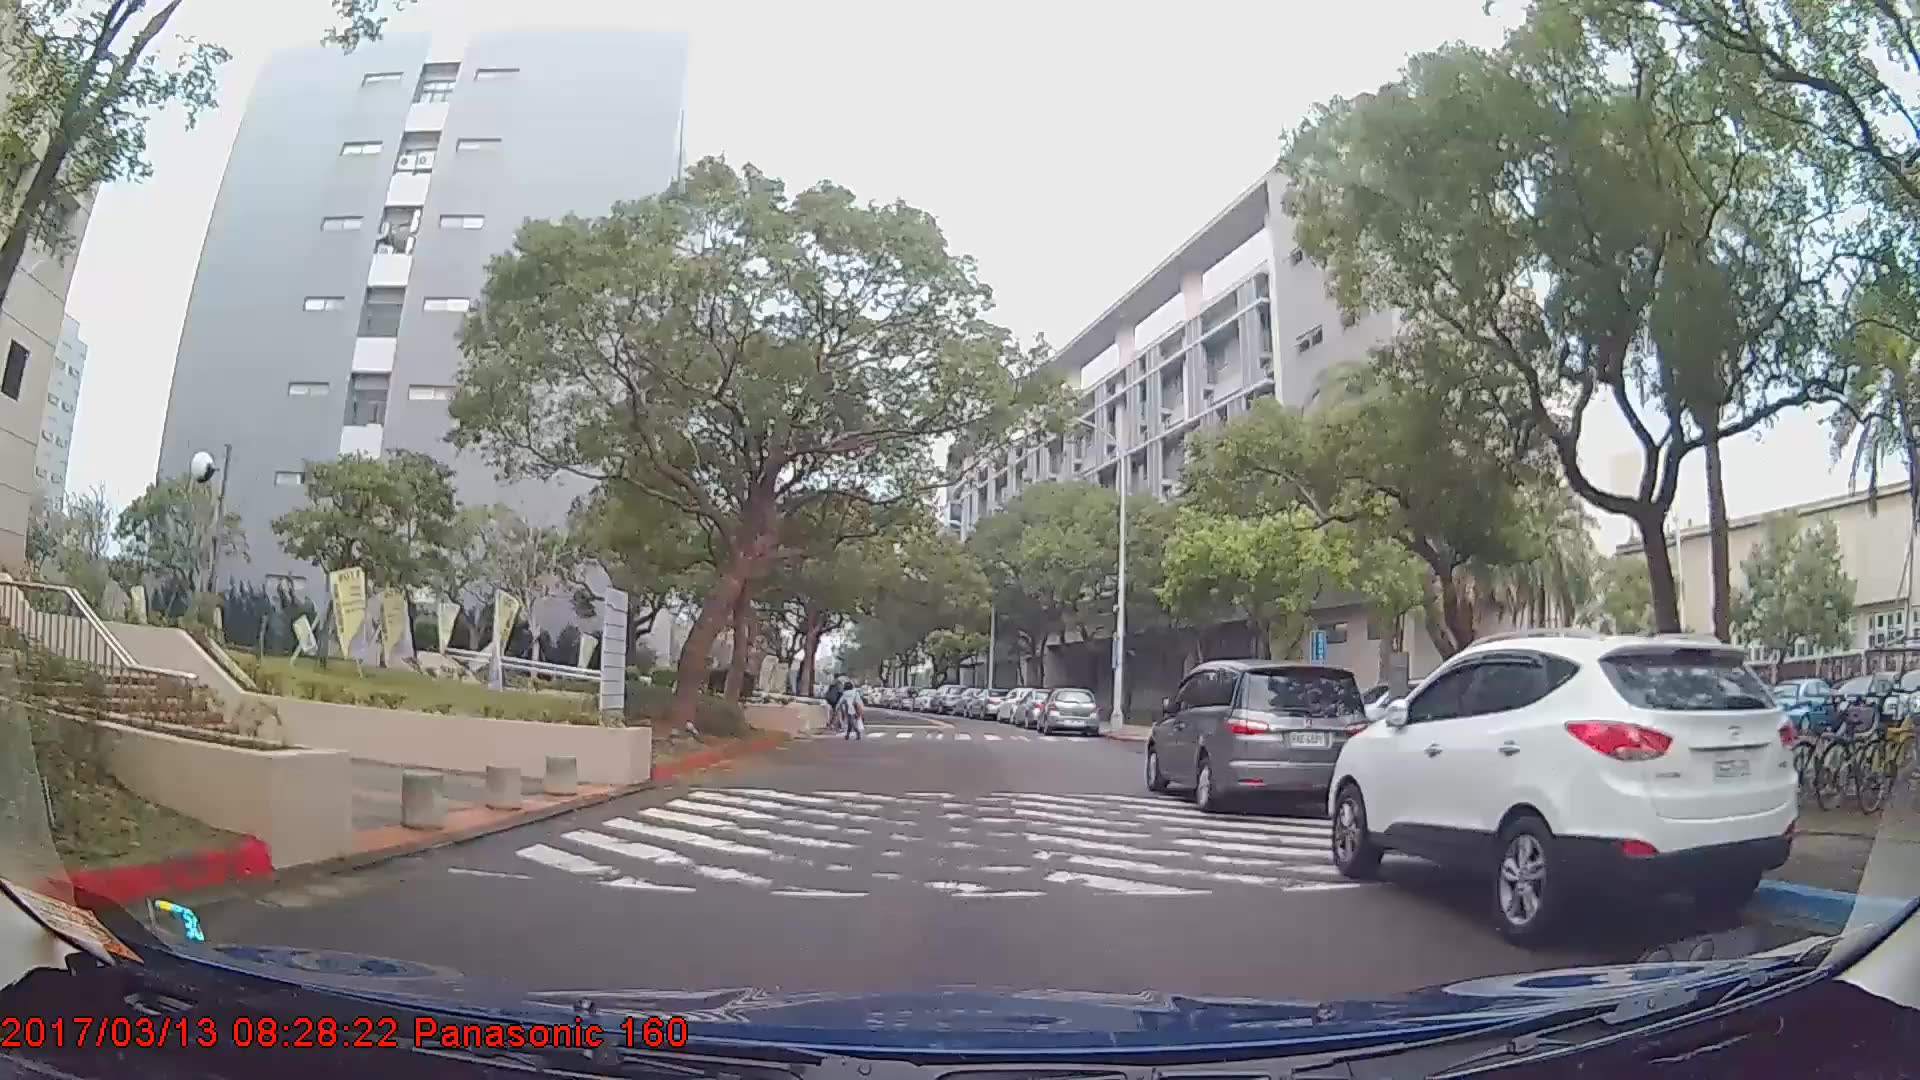pedestrian: (836, 682, 867, 744), (823, 671, 848, 729)
vehicle: (1328, 631, 1803, 949), (1145, 657, 1373, 816), (1822, 671, 1908, 733), (1764, 675, 1843, 738), (1041, 684, 1098, 736), (966, 689, 1007, 719), (928, 682, 966, 714)
